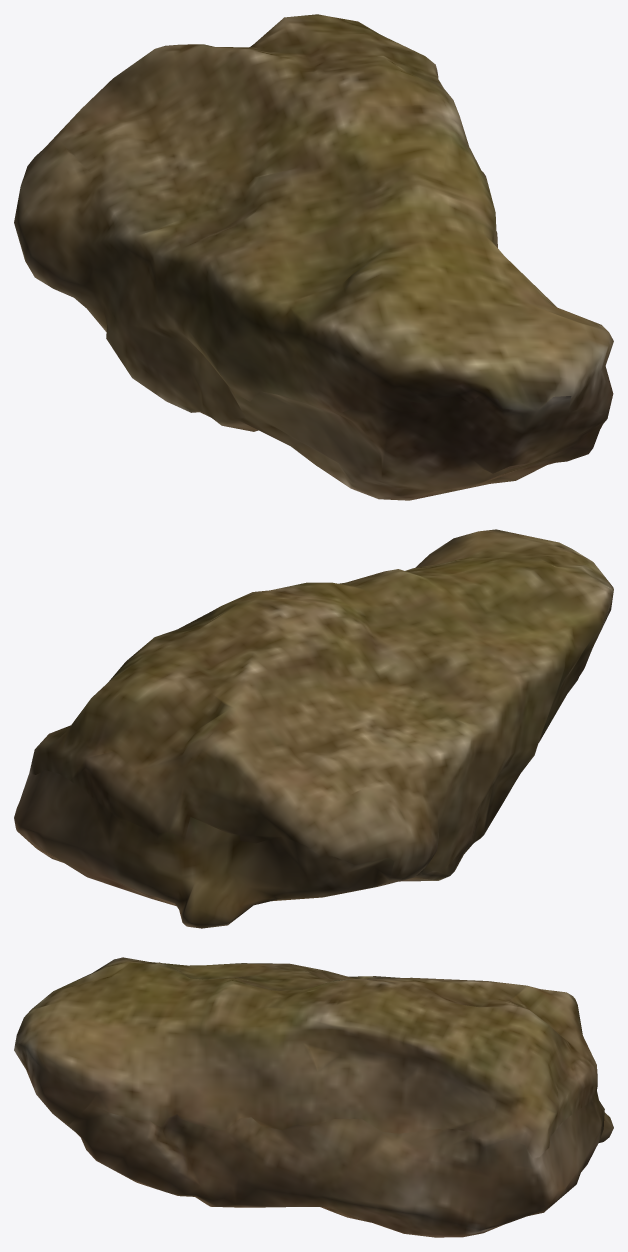
The model's file is rock_moss_set_01_4.glb.
3 renders of one model, top to bottom at view 1: azimuth 30°, elevation 25°; view 2: azimuth 150°, elevation 25°; view 3: azimuth 270°, elevation 25°, orthographic. The views are drawn at different scales.
Size of the model in its own units: 1.81 by 1.2 by 3.
1 material, 1 textured.
